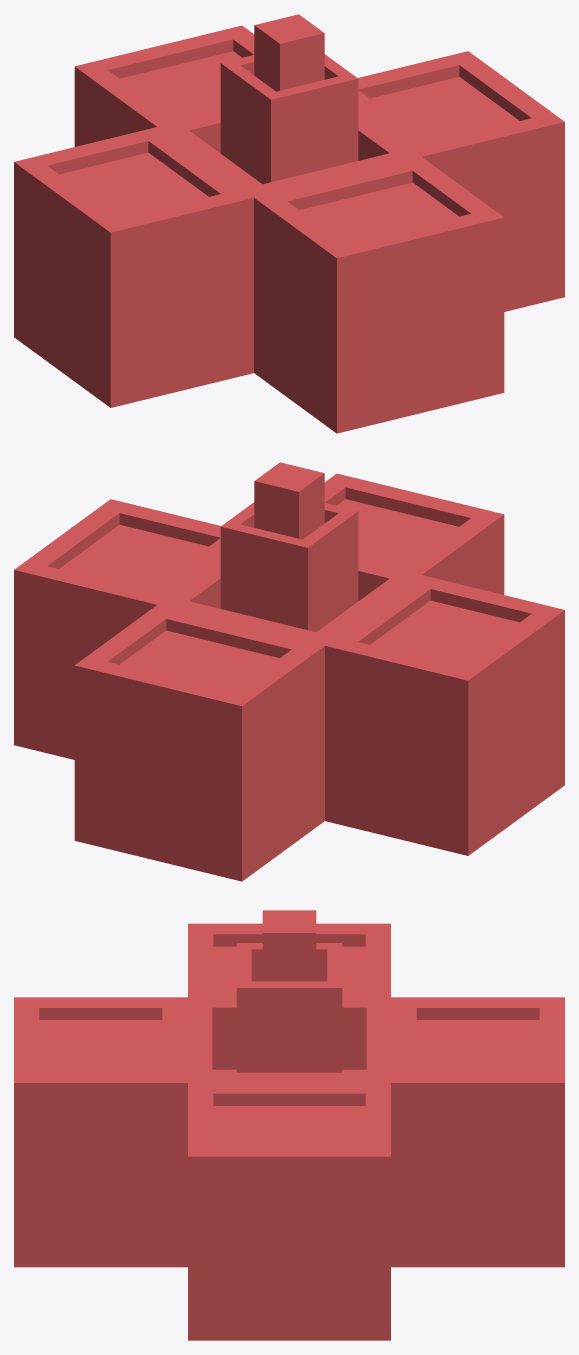
File: ancient-block.glb
3 views of the same model, one above another, from view 1: azimuth 30°, elevation 25°; view 2: azimuth 150°, elevation 25°; view 3: azimuth 270°, elevation 25° (orthographic). The views are drawn at different scales.
Parts seen in each view (by area): view 1: Cube.001; view 2: Cube.001; view 3: Cube.001.
Part boxes in pixels (bbox=[...]): Cube.001: bbox=[14, 14, 564, 433]; Cube.001: bbox=[14, 462, 564, 881]; Cube.001: bbox=[14, 910, 564, 1340].
Bounding box in the file's own units: 5.42 × 3.29 × 5.42.
